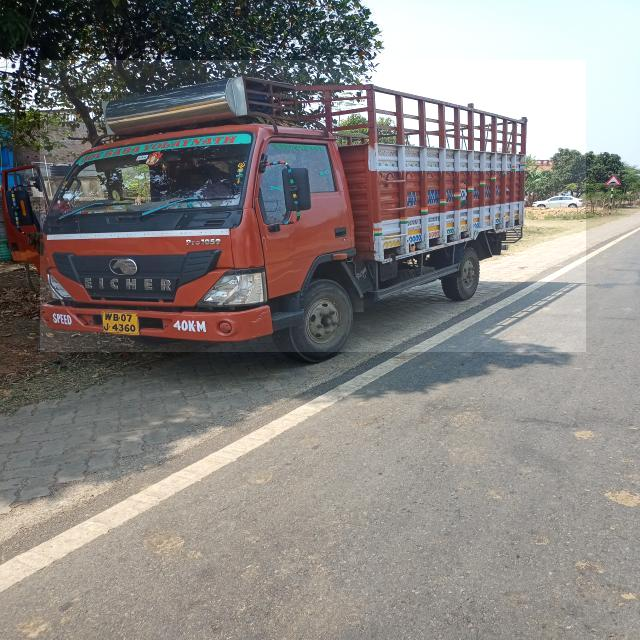Truck: (40, 60, 586, 352)
